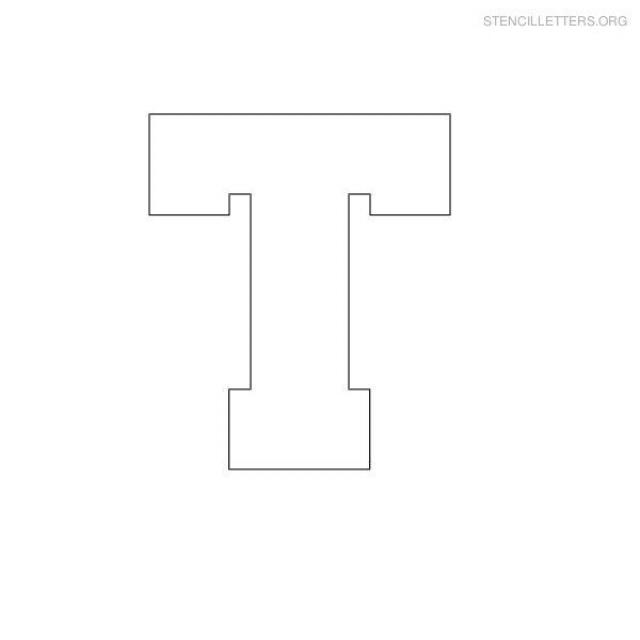T: (98, 73, 469, 520)
